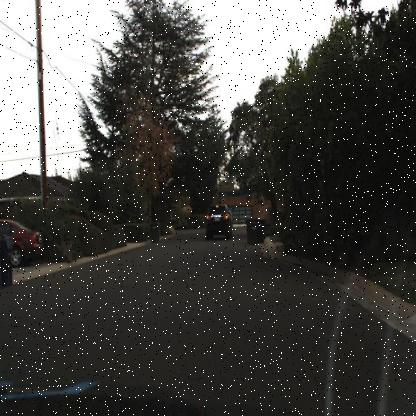car: (0, 216, 44, 267), (203, 196, 237, 248)
